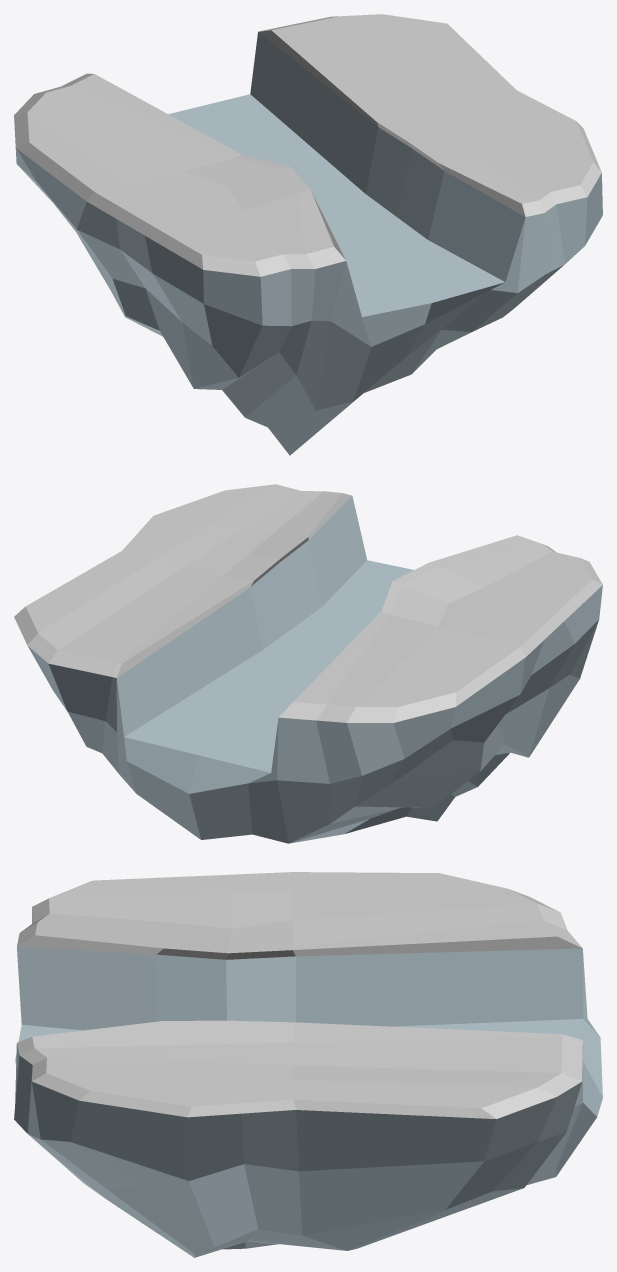
File: Ice_IslandStraight1.fbx
The picture shows the model from 3 angles, top to bottom: view 1: azimuth 30°, elevation 25°; view 2: azimuth 150°, elevation 25°; view 3: azimuth 270°, elevation 25°; orthographic projection. The views are drawn at different scales.
Visible parts, largest first — view 1: Ice_Island_CavernStraight; view 2: Ice_Island_CavernStraight; view 3: Ice_Island_CavernStraight.
Part boxes in pixels (x1,y1,x2,y2): Ice_Island_CavernStraight: [14, 14, 602, 455]; Ice_Island_CavernStraight: [14, 484, 602, 843]; Ice_Island_CavernStraight: [14, 872, 602, 1257].
Size of the model in its own units: 472 by 266 by 486.
